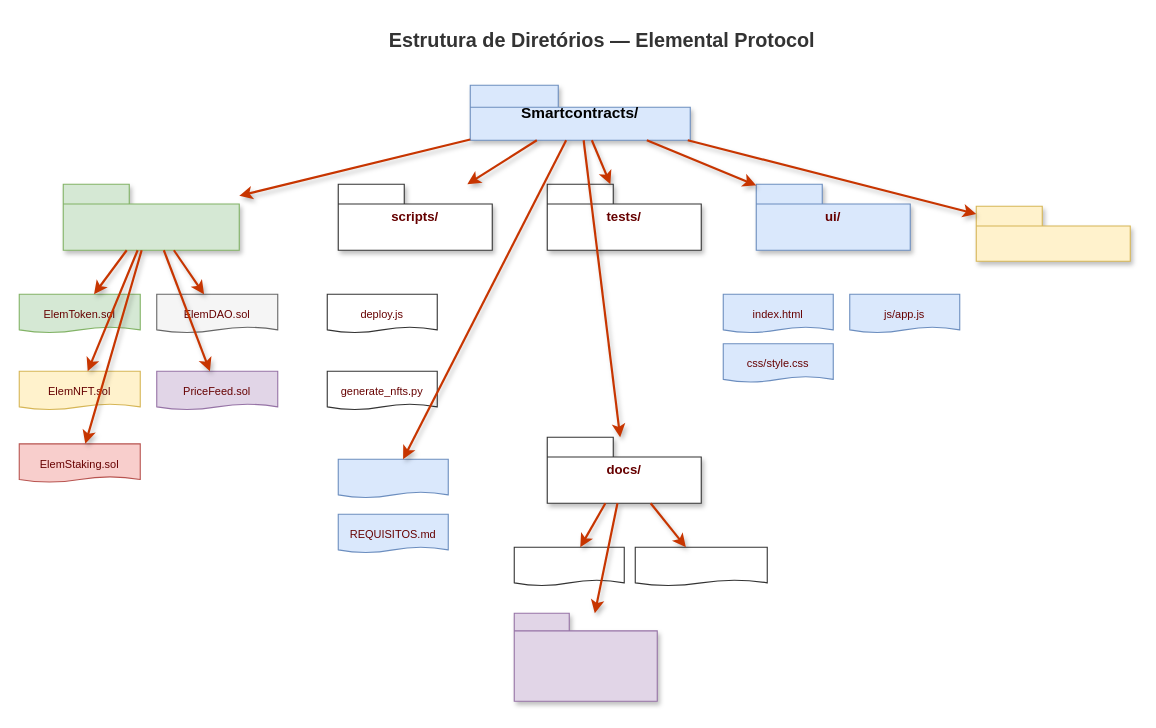
The diagram is 1156 pixels wide and 728 high, and some of its shapes have lost their labels. The shapes that lost their labels are listed below. From the top down, each one's centre as x and y in pixels, then its label:
point (152, 218): contracts/
point (1054, 235): NFT/ 10 GIFs pixel art
point (392, 478): README.md
point (568, 566): ETAPA_1.md
point (700, 566): Enunciado (.pdf/.md)
point (586, 658): diagrams/ .drawio files
